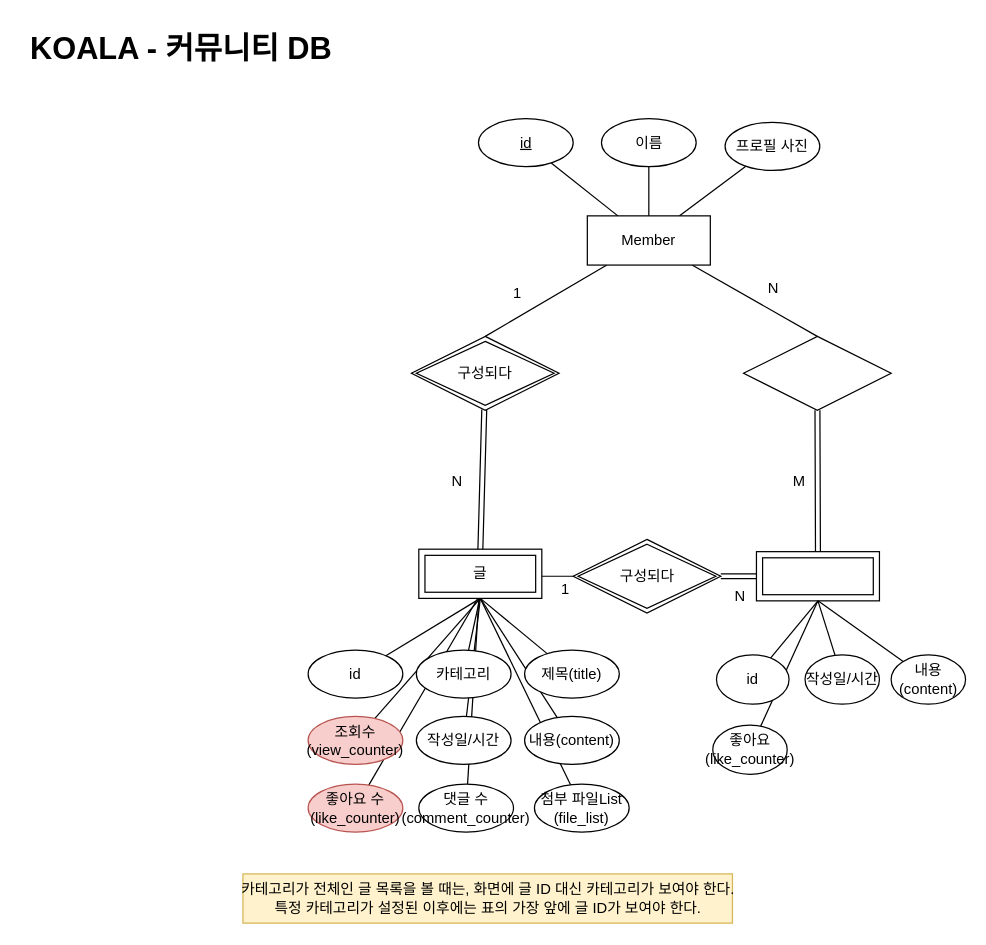
Some shapes in this 986 by 945 pixel diagram are drawn without their labels. Here are the shapes that lost their labels. From the top down, the centre of each, then its label:
the point at 816,372: 작성하다
the point at 817,575: 댓글
